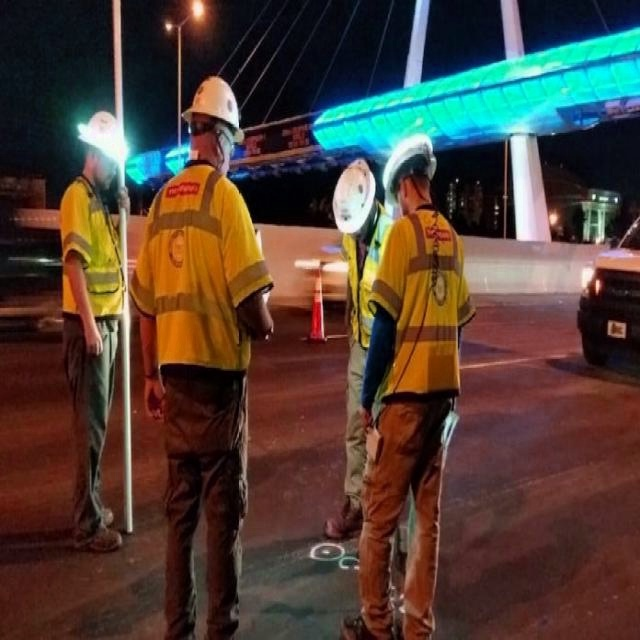Con_Casco: (182, 78, 244, 154), (334, 156, 375, 233)
Con_Chaleco: (155, 165, 237, 367), (382, 212, 460, 391), (62, 186, 123, 320)
